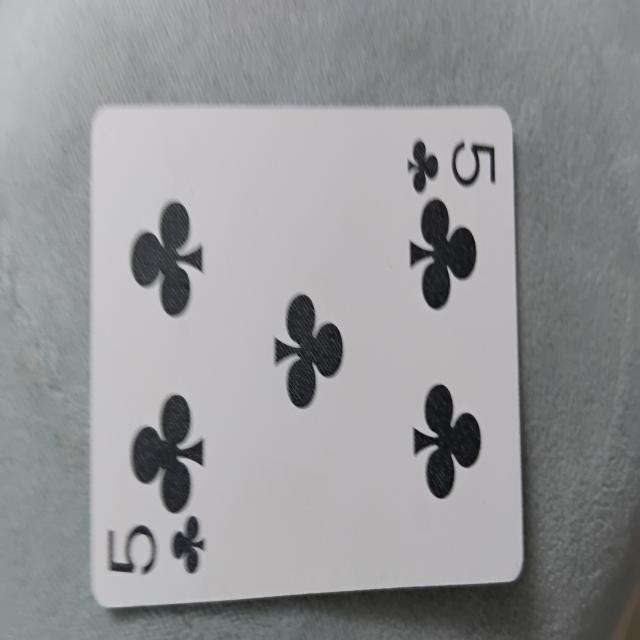5C: (91, 105, 515, 610)
